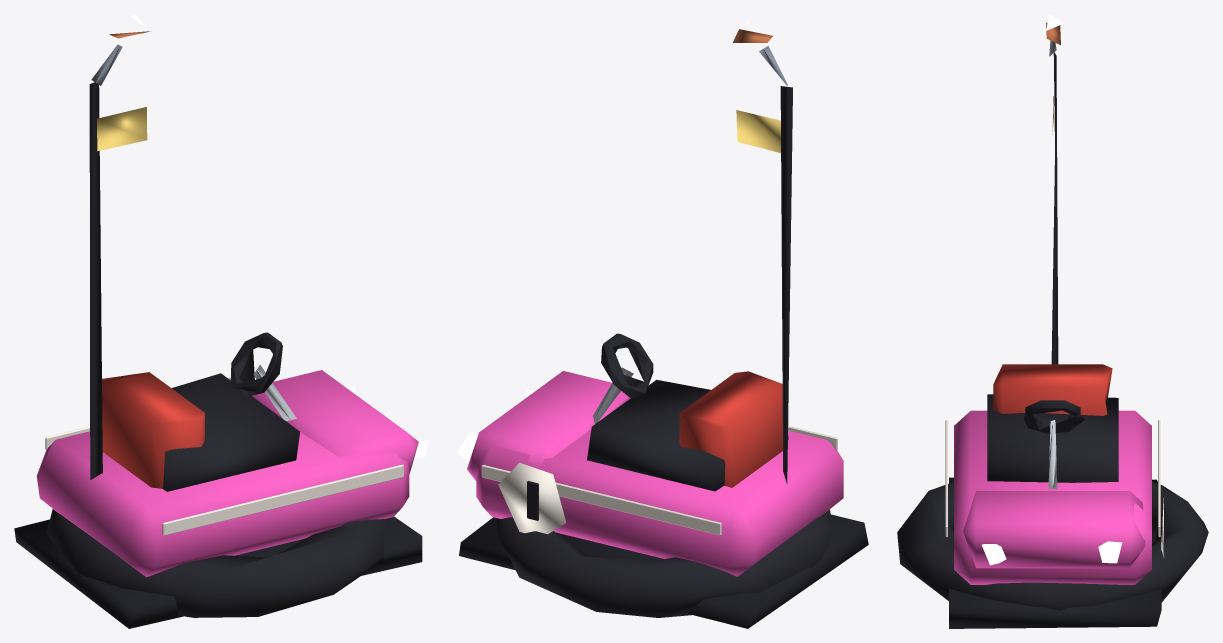
The model's file is bumper_car.glb.
3 views of the same model, side by side, from view 1: azimuth 30°, elevation 25°; view 2: azimuth 150°, elevation 25°; view 3: azimuth 270°, elevation 25° (orthographic). The views are drawn at different scales.
Visible parts, largest first — view 1: bumper_car; view 2: bumper_car; view 3: bumper_car.
Part boxes in pixels (bbox=[...]): bumper_car: bbox=[14, 14, 428, 628]; bumper_car: bbox=[457, 16, 868, 628]; bumper_car: bbox=[897, 14, 1208, 628].
Size of the model in its own units: 1.61 by 2.69 by 1.48.
Materials: 1 (1 with a texture image).
